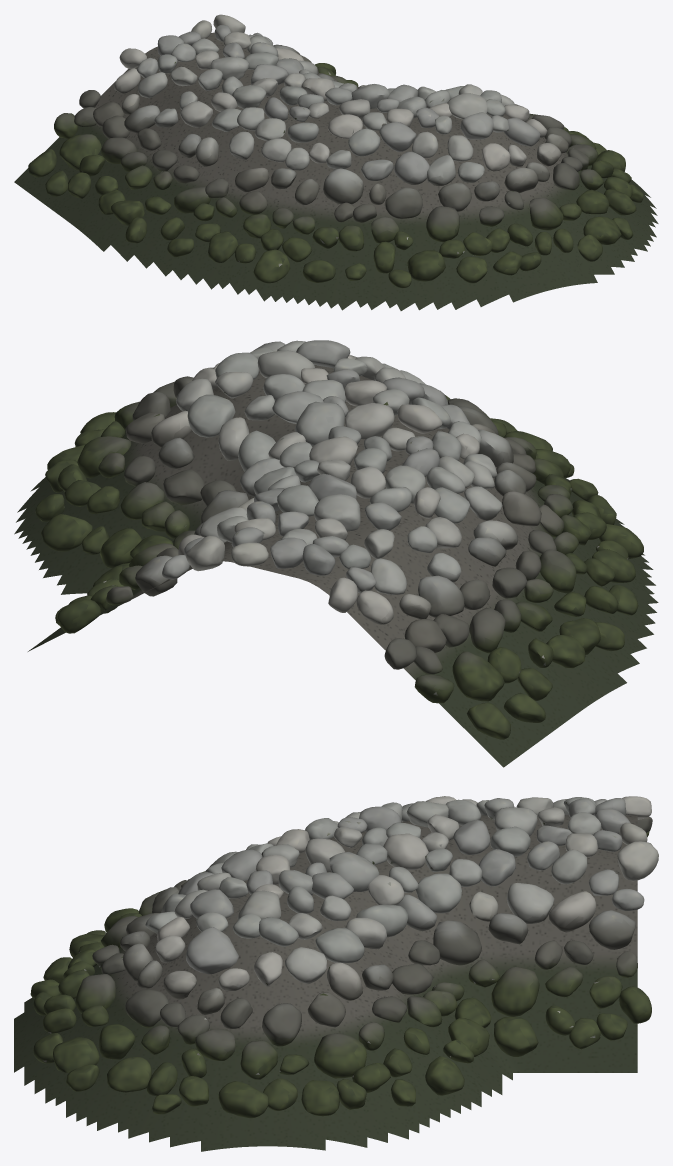
File: Jetty_HeadR.gltf
3 renders of one model, top to bottom at view 1: azimuth 30°, elevation 25°; view 2: azimuth 150°, elevation 25°; view 3: azimuth 270°, elevation 25°, orthographic. The views are drawn at different scales.
Parts seen in each view (by area): view 1: Jetty_HeadR; view 2: Jetty_HeadR; view 3: Jetty_HeadR.
Boxes of the visible parts, x1,y1,x2,y2 form: Jetty_HeadR: (14, 14, 658, 310); Jetty_HeadR: (14, 340, 658, 767); Jetty_HeadR: (14, 796, 658, 1151).
Size of the model in its own units: 19.94 by 5.11 by 18.76.
2 materials, 2 textured.
